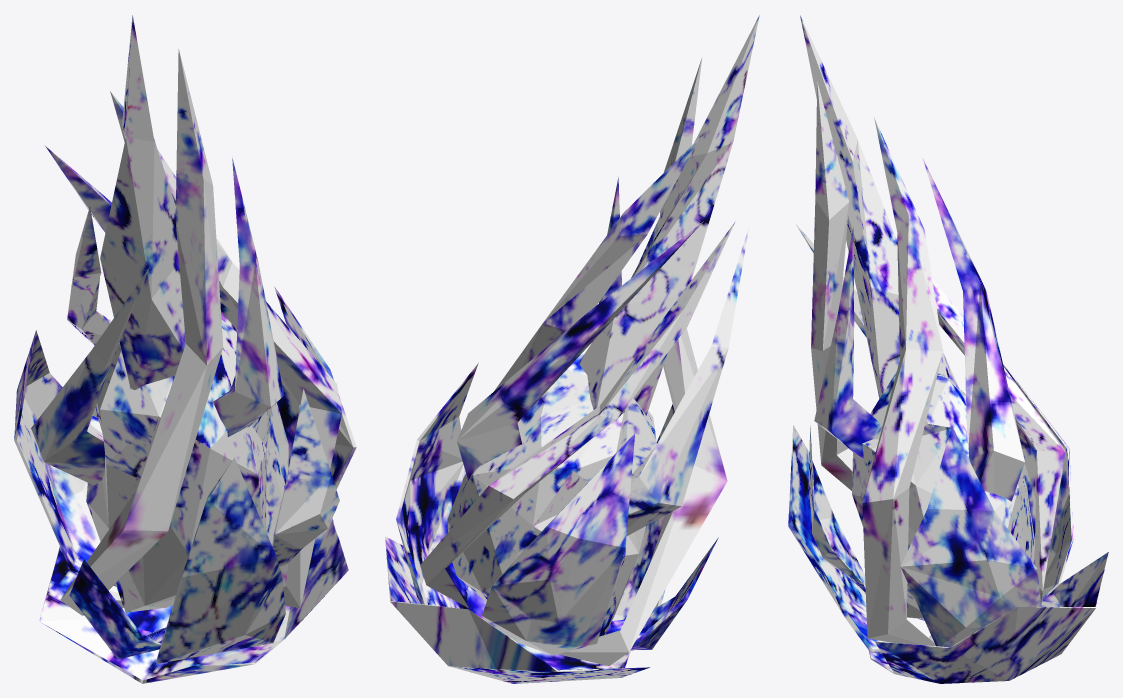
File: CometaM.glb
3 renders of one model, left to right at view 1: azimuth 30°, elevation 25°; view 2: azimuth 150°, elevation 25°; view 3: azimuth 270°, elevation 25°, orthographic. The views are drawn at different scales.
Parts seen in each view (by area): view 1: Object_4; view 2: Object_4; view 3: Object_4.
Part boxes in pixels (x1=…): Object_4: x1=14, y1=15, x2=356, y2=683; Object_4: x1=385, y1=15, x2=759, y2=683; Object_4: x1=788, y1=15, x2=1108, y2=683.
Bounding box in the file's own units: 0.983 × 2.21 × 1.07.
Materials: 1 (1 with a texture image).
